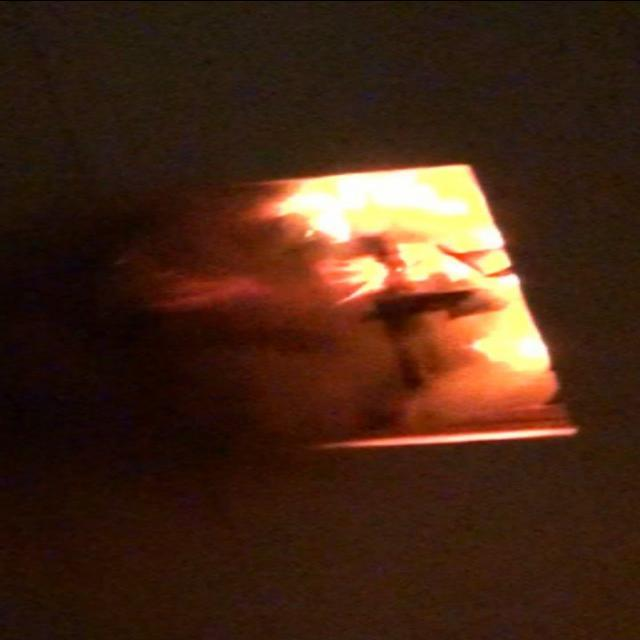Fire: (153, 174, 567, 444)
